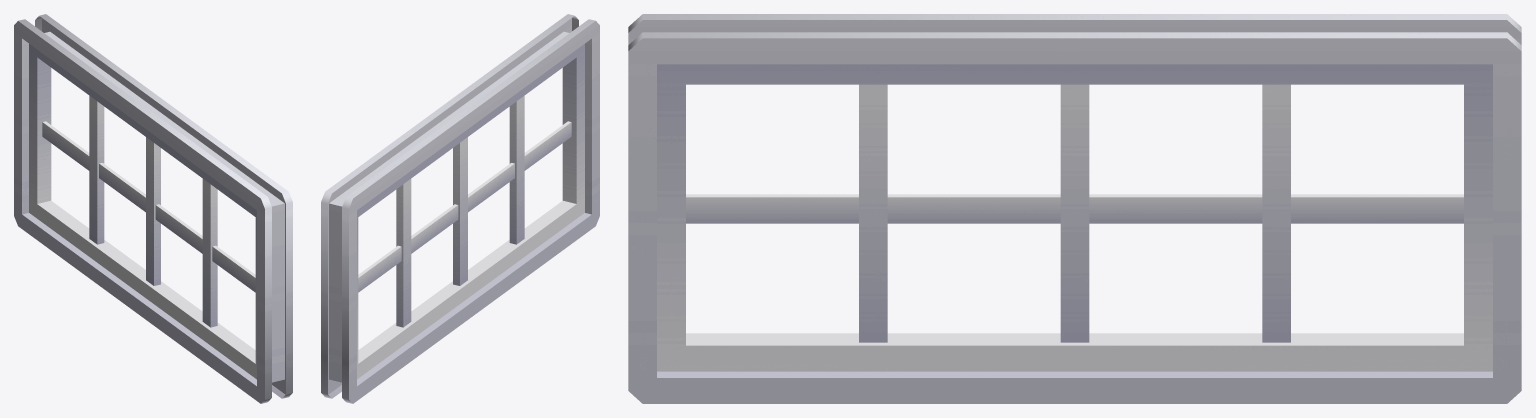
The model's file is window_04.glb.
The picture shows the model from 3 angles, left to right: view 1: azimuth 30°, elevation 25°; view 2: azimuth 150°, elevation 25°; view 3: azimuth 270°, elevation 25°; orthographic projection. The views are drawn at different scales.
Visible parts, largest first — view 1: wall-window-wide-square-detailed; view 2: wall-window-wide-square-detailed; view 3: wall-window-wide-square-detailed.
Part boxes in pixels (x1=…): wall-window-wide-square-detailed: x1=14, y1=14, x2=292, y2=403; wall-window-wide-square-detailed: x1=321, y1=14, x2=599, y2=403; wall-window-wide-square-detailed: x1=628, y1=14, x2=1521, y2=403.
Size of the model in its own units: 0.2 by 1.4 by 3.1.
Materials: 1 (1 with a texture image).
